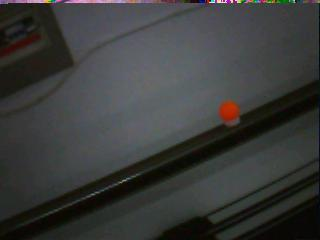oball: (218, 101, 239, 121)
